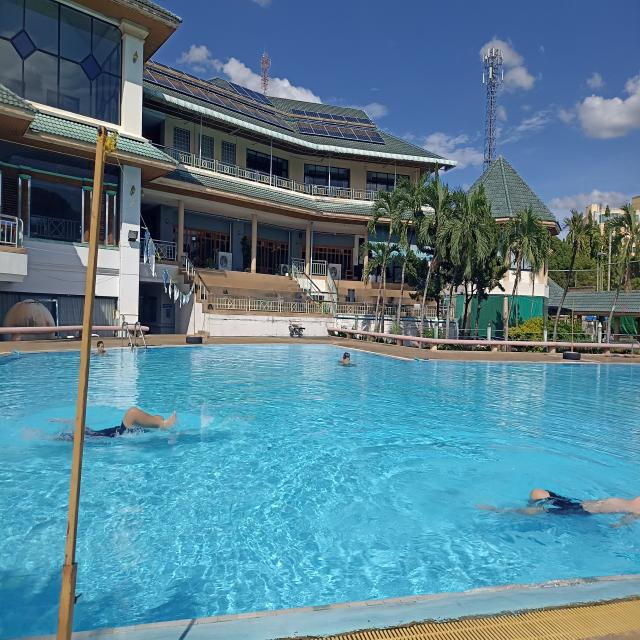Swimming: (519, 478, 640, 529), (63, 403, 179, 443), (91, 336, 112, 361), (338, 351, 360, 374)
